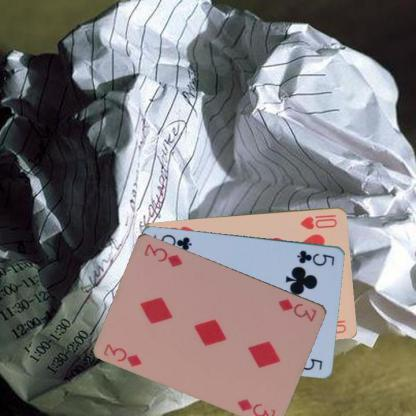10h: (298, 212, 338, 230)
3d: (101, 340, 143, 368), (276, 296, 318, 323)
5c: (294, 247, 336, 267)
